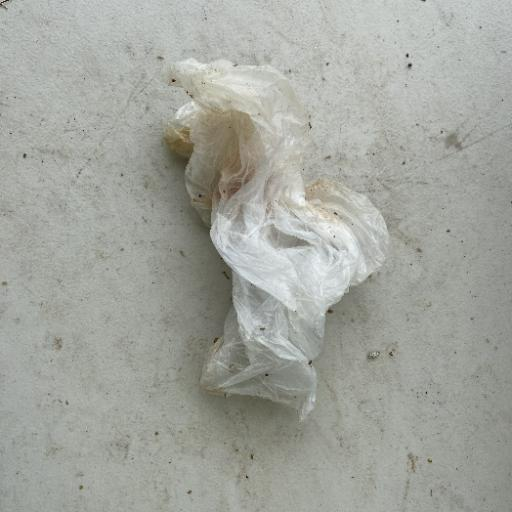Plastic: (160, 56, 391, 421)
